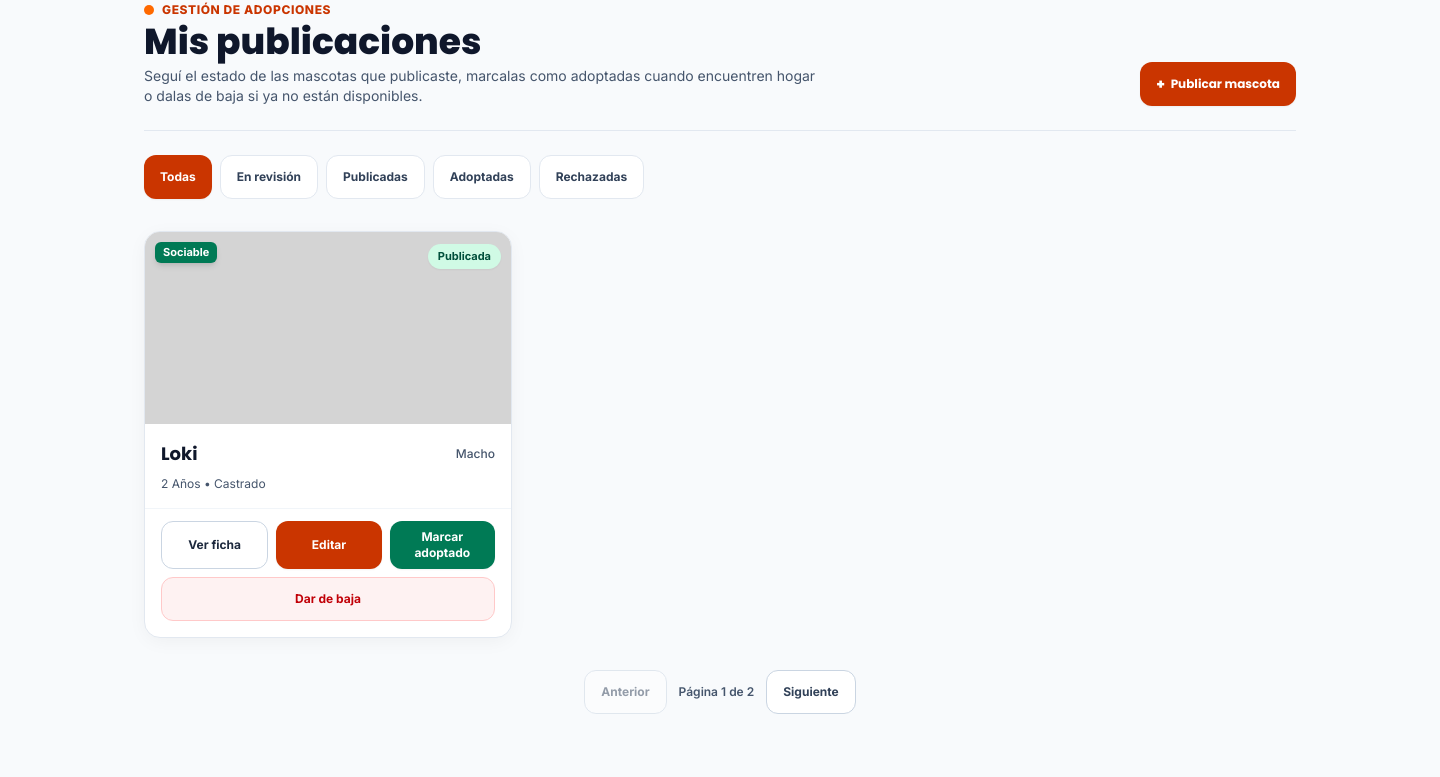
Test: MyPetsView › pagina de a 12 resultados cuando hay más de una página
The width and height of the screenshot is (1440, 777).
(page scrolled)
Expected: the heading "Loki" is shown, [161,440,198,468]
Expected: the text "Página 1 de 2" is shown, [679,684,754,700]
Click the button "Siguiente".
click(811, 692)  # box [766,670,856,714]
(page scrolled)
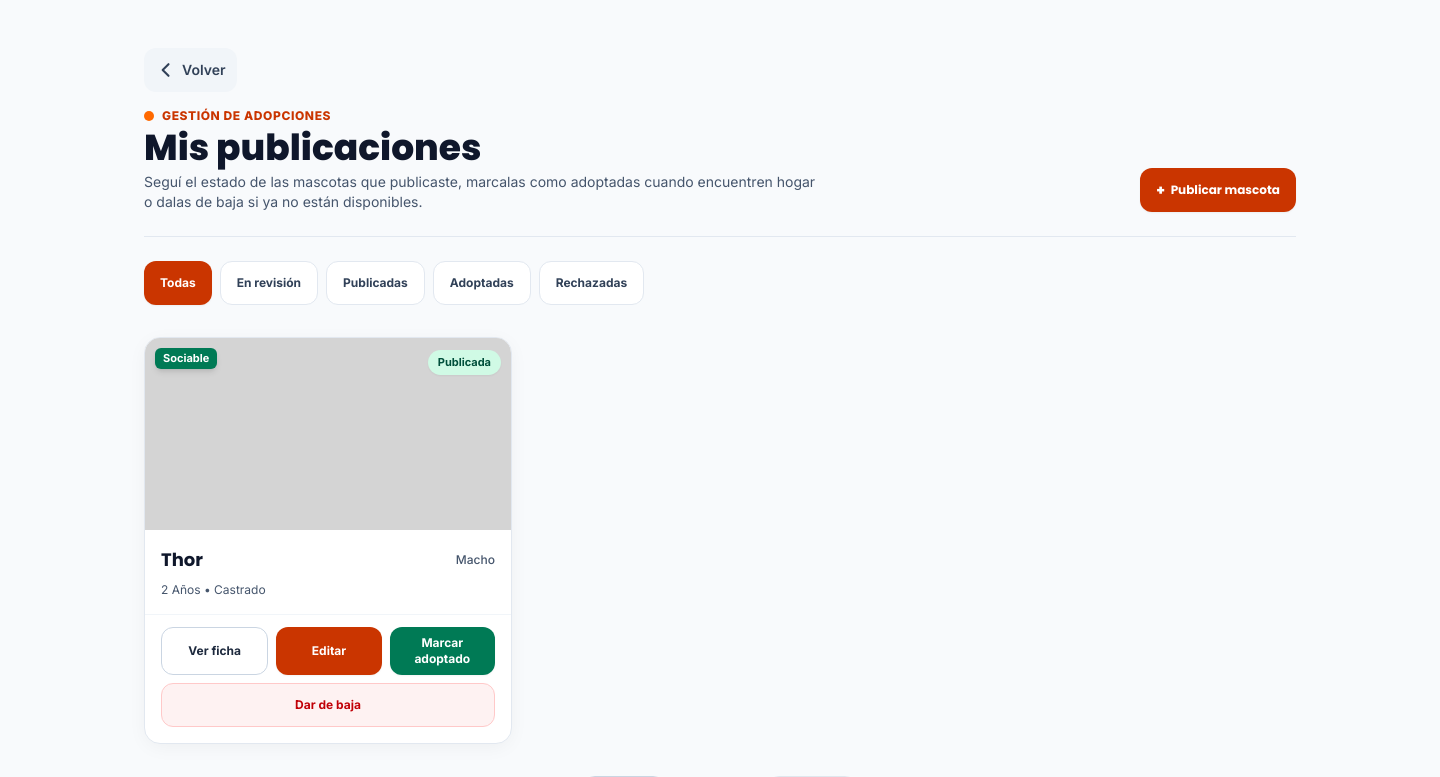
Expected: the heading "Thor" is shown, [161,546,203,574]
